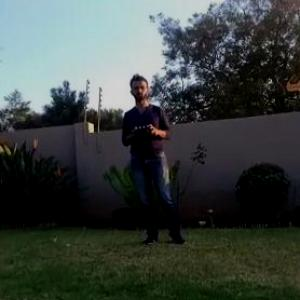follow: (121, 68, 195, 249)
